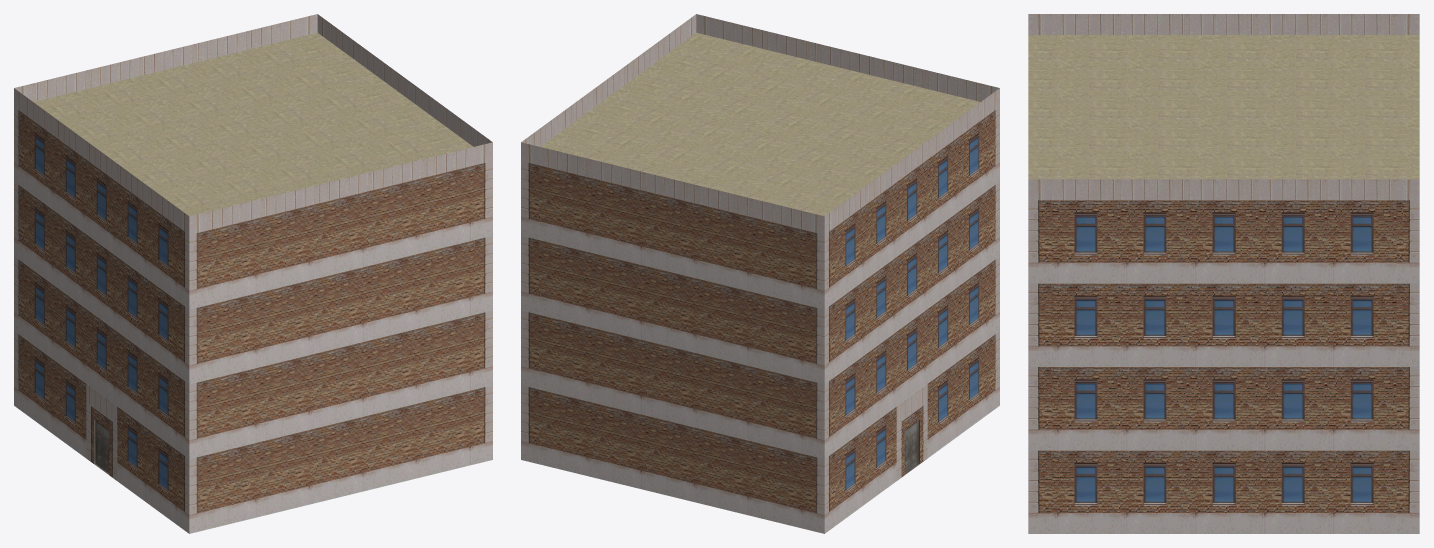
File: Urban_FlatSquareBrickAlt_Model.fbx
3 views of the same model, side by side, from view 1: azimuth 30°, elevation 25°; view 2: azimuth 150°, elevation 25°; view 3: azimuth 270°, elevation 25° (orthographic). The views are drawn at different scales.
Parts seen in each view (by area): view 1: Urban_FlatSquareBrickAlt_Mesh; view 2: Urban_FlatSquareBrickAlt_Mesh; view 3: Urban_FlatSquareBrickAlt_Mesh.
Boxes of the visible parts, x1=… form: Urban_FlatSquareBrickAlt_Mesh: x1=14, y1=14, x2=492, y2=533; Urban_FlatSquareBrickAlt_Mesh: x1=521, y1=14, x2=999, y2=533; Urban_FlatSquareBrickAlt_Mesh: x1=1028, y1=14, x2=1419, y2=533.
Size of the model in its own units: 11.9 by 11.9 by 11.9.
